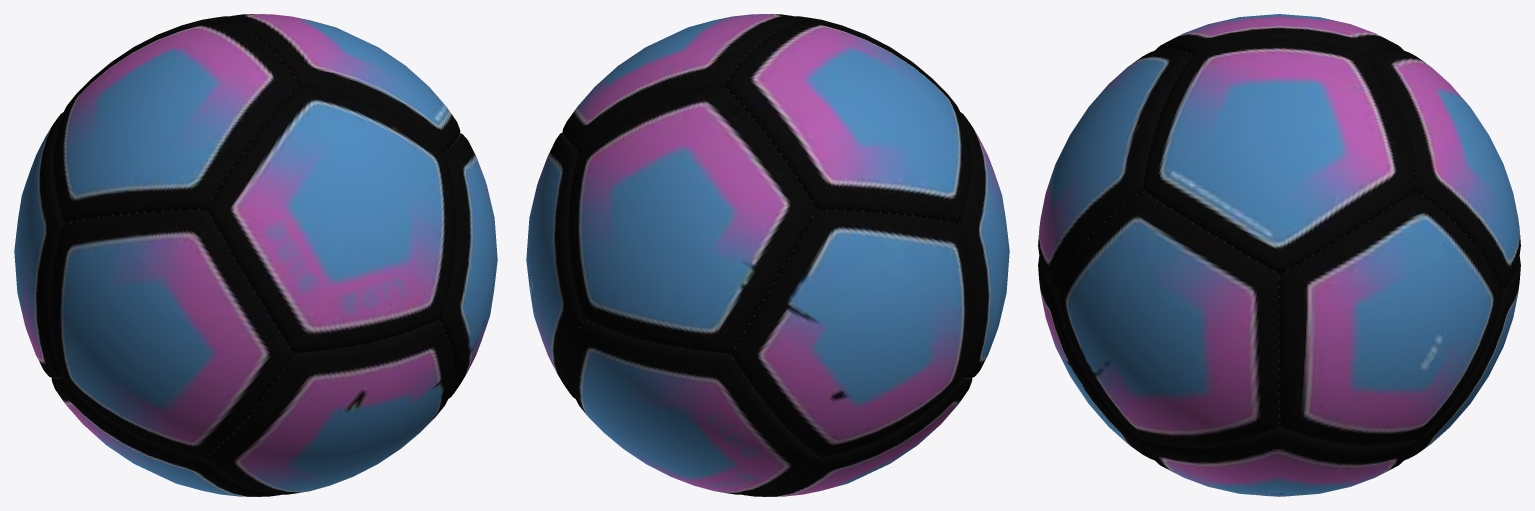
File: BlueAndRoseBall.glb
3 renders of one model, left to right at view 1: azimuth 30°, elevation 25°; view 2: azimuth 150°, elevation 25°; view 3: azimuth 270°, elevation 25°, orthographic.
Visible parts, largest first — view 1: Ball_Premier; view 2: Ball_Premier; view 3: Ball_Premier.
Part boxes in pixels (x1=…): Ball_Premier: x1=14, y1=14, x2=497, y2=496; Ball_Premier: x1=526, y1=14, x2=1009, y2=496; Ball_Premier: x1=1038, y1=14, x2=1520, y2=496.
Size of the model in its own units: 0.2496 by 0.2499 by 0.2496.
Materials: 1 (1 with a texture image).
